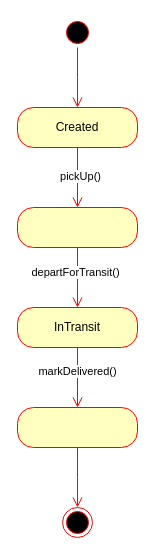
This 155x555 diagram has some shape labels left out. Each missing label, with the centre of its shape:
"Delivered" goes at point (77, 427).
"PickedUp" goes at point (77, 227).
